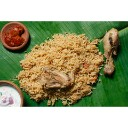briyani: (31, 27, 121, 104)
